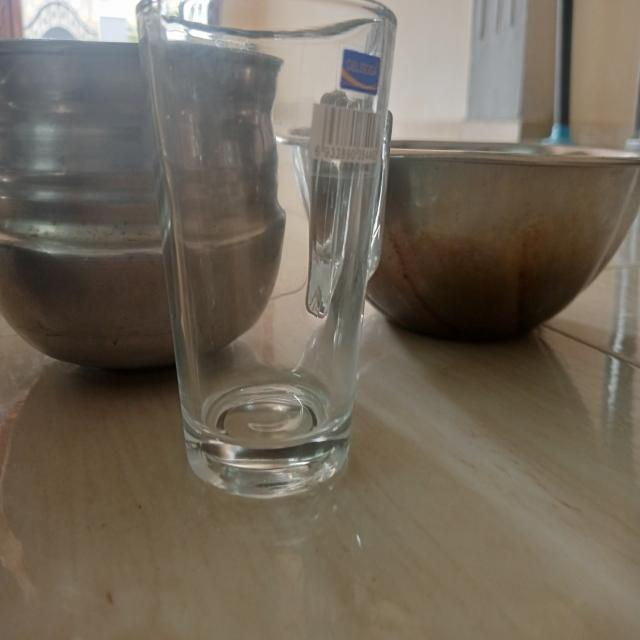glass-VX4N: (134, 0, 398, 501)
